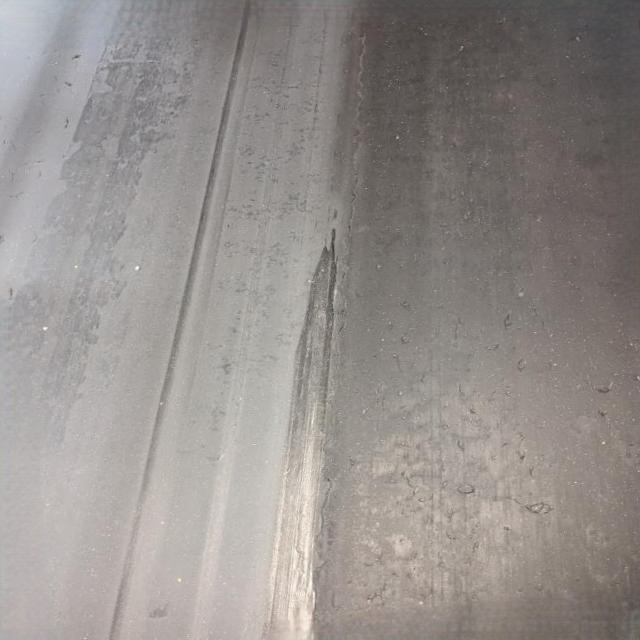Wear: (270, 208, 345, 640)
